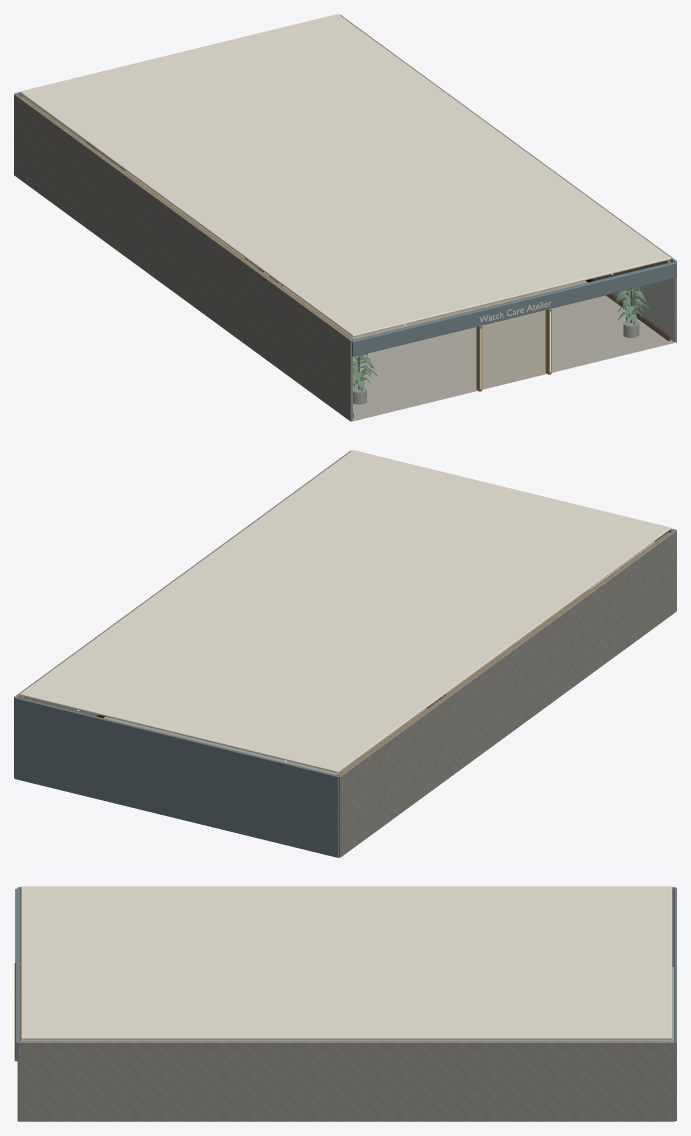
Rendered from watch-care.glb.
3 renders of one model, top to bottom at view 1: azimuth 30°, elevation 25°; view 2: azimuth 150°, elevation 25°; view 3: azimuth 270°, elevation 25°, orthographic. The views are drawn at different scales.
Visible parts, largest first — view 1: Batched AUR-L4-WATCH-CARE::Warm porcelain, Batched AUR-L4-WATCH-CARE::Travertine, Tenant floor watch-care, Batched AUR-L4-WATCH-CARE::Tenant glass, Batched AUR-L4-WATCH-CARE::Tenant watch-care, Batched AUR-L4-WATCH-CARE::Bronze, Batched AUR-L4-WATCH-CARE::Foliage; view 2: Batched AUR-L4-WATCH-CARE::Warm porcelain, Batched AUR-L4-WATCH-CARE::Travertine, Batched AUR-L4-WATCH-CARE::Tenant watch-care, Tenant floor watch-care, Batched AUR-L4-WATCH-CARE::Bronze; view 3: Batched AUR-L4-WATCH-CARE::Warm porcelain, Batched AUR-L4-WATCH-CARE::Travertine, Tenant floor watch-care, Batched AUR-L4-WATCH-CARE::Tenant watch-care, Batched AUR-L4-WATCH-CARE::Bronze.
Part boxes in pixels (left/top/right/bottom): Batched AUR-L4-WATCH-CARE::Warm porcelain: left=19, top=14, right=671, bottom=336; Batched AUR-L4-WATCH-CARE::Travertine: left=14, top=14, right=676, bottom=421; Tenant floor watch-care: left=125, top=171, right=675, bottom=421; Batched AUR-L4-WATCH-CARE::Tenant glass: left=352, top=279, right=675, bottom=421; Batched AUR-L4-WATCH-CARE::Tenant watch-care: left=14, top=92, right=676, bottom=356; Batched AUR-L4-WATCH-CARE::Bronze: left=21, top=96, right=670, bottom=391; Batched AUR-L4-WATCH-CARE::Foliage: left=353, top=287, right=649, bottom=391; Batched AUR-L4-WATCH-CARE::Warm porcelain: left=19, top=450, right=671, bottom=772; Batched AUR-L4-WATCH-CARE::Travertine: left=14, top=450, right=676, bottom=857; Batched AUR-L4-WATCH-CARE::Tenant watch-care: left=14, top=528, right=676, bottom=857; Tenant floor watch-care: left=103, top=589, right=589, bottom=775; Batched AUR-L4-WATCH-CARE::Bronze: left=20, top=532, right=669, bottom=775; Batched AUR-L4-WATCH-CARE::Warm porcelain: left=21, top=886, right=672, bottom=1039; Batched AUR-L4-WATCH-CARE::Travertine: left=17, top=887, right=675, bottom=1121; Tenant floor watch-care: left=21, top=967, right=673, bottom=1041; Batched AUR-L4-WATCH-CARE::Tenant watch-care: left=15, top=887, right=676, bottom=1120; Batched AUR-L4-WATCH-CARE::Bronze: left=14, top=963, right=669, bottom=1061.
Size of the model in its own units: 20.16 by 4.97 by 36.29.
Materials: 11 (4 with a texture image).
